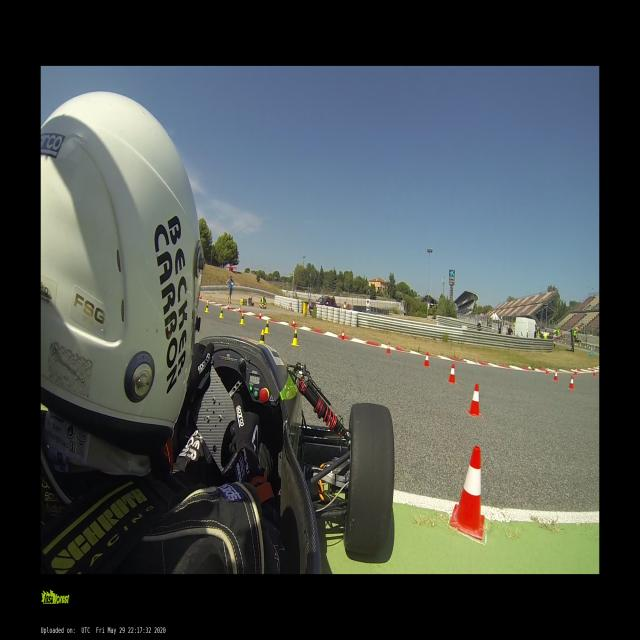orange_cone: (450, 446, 490, 538), (466, 383, 483, 418), (447, 363, 456, 384), (423, 352, 430, 367), (568, 376, 575, 390), (290, 318, 296, 329), (386, 342, 391, 354), (553, 370, 558, 382), (340, 330, 344, 341), (573, 368, 578, 376), (545, 366, 549, 376), (592, 369, 596, 377), (238, 306, 241, 314), (206, 298, 209, 306), (259, 311, 261, 320), (227, 303, 229, 311), (200, 293, 202, 299)
yellow_cone: (291, 328, 299, 346), (264, 320, 270, 334), (260, 329, 264, 344), (240, 313, 244, 325), (219, 308, 223, 318), (205, 302, 208, 312)
